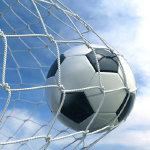football: (42, 42, 138, 134)
